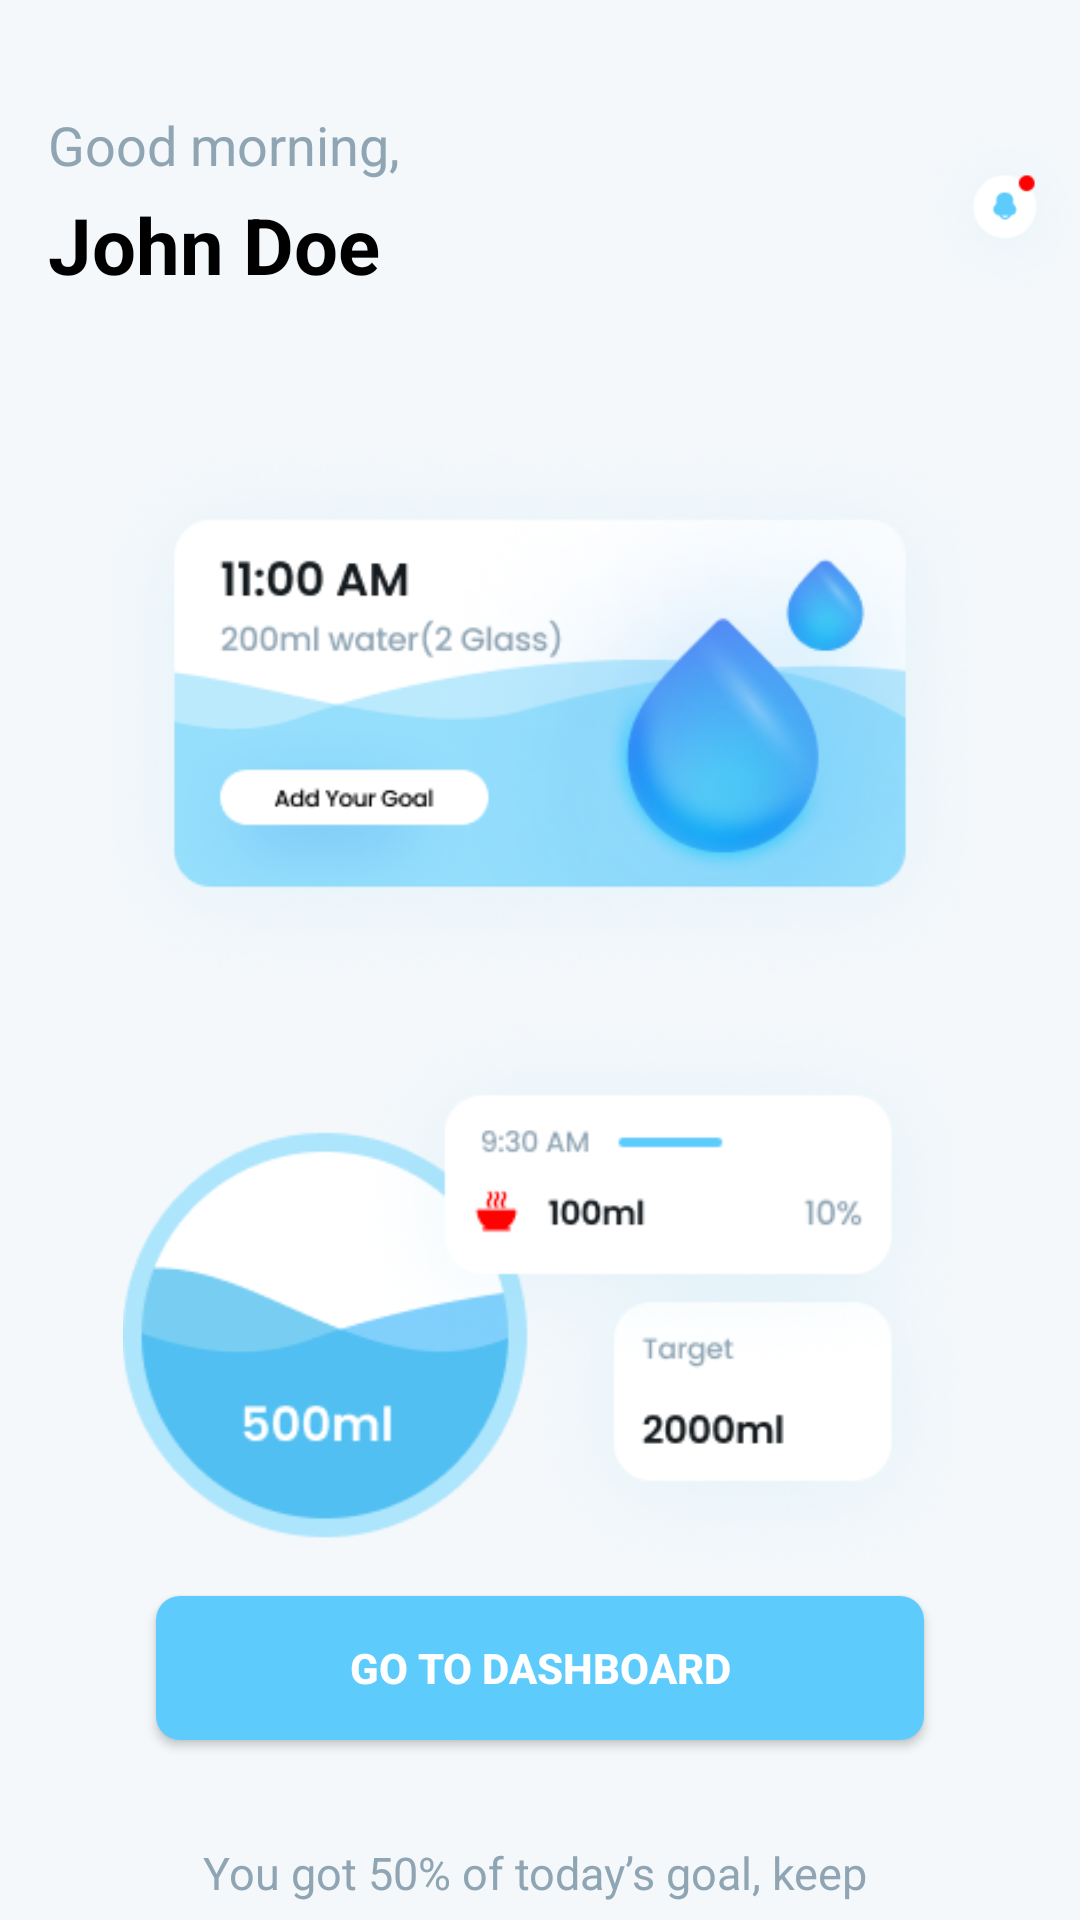

Where icons sit on this 1080w x 1920h app screen, as region(x1, y1, x2, y2):
notification: region(974, 175, 1036, 238)
